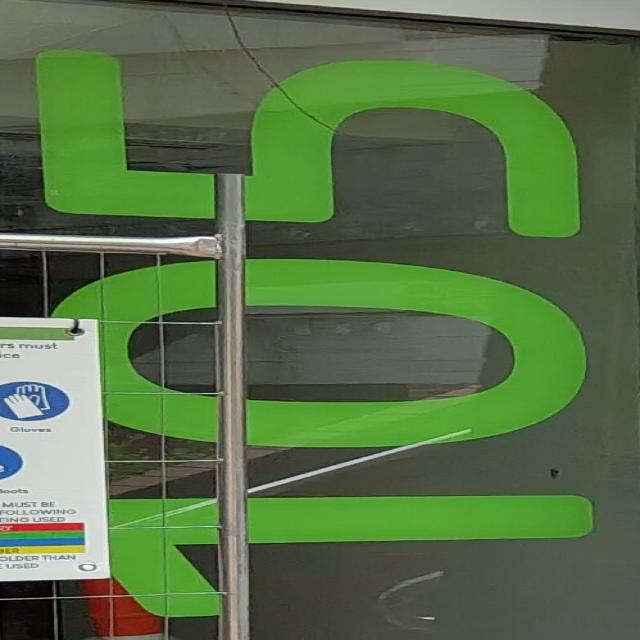character: (21, 39, 605, 244), (32, 250, 596, 455), (45, 486, 613, 626)
